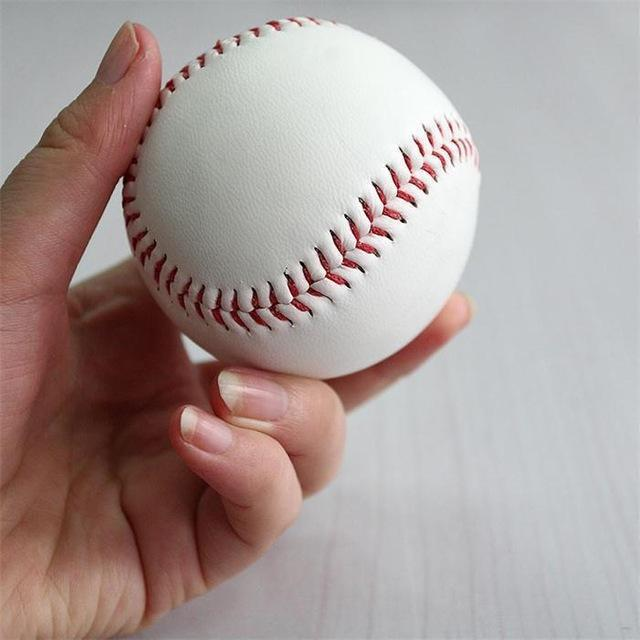baseball: (122, 16, 480, 380)
